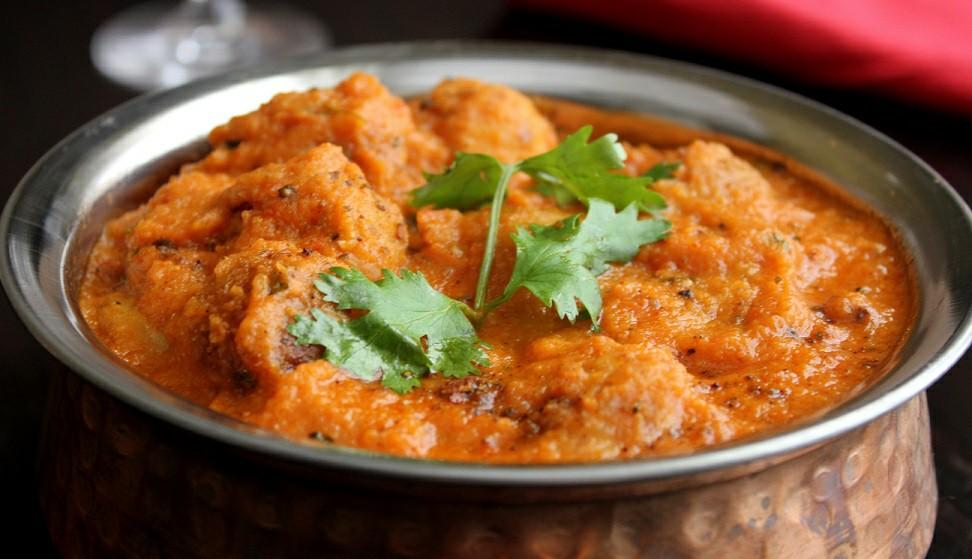DumAloo: (82, 68, 918, 467)
